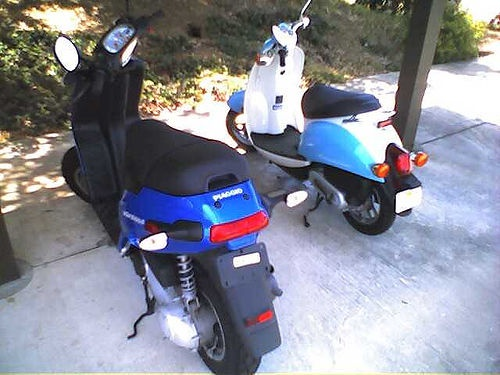non-vehicle: (54, 0, 311, 375), (223, 0, 430, 236)
